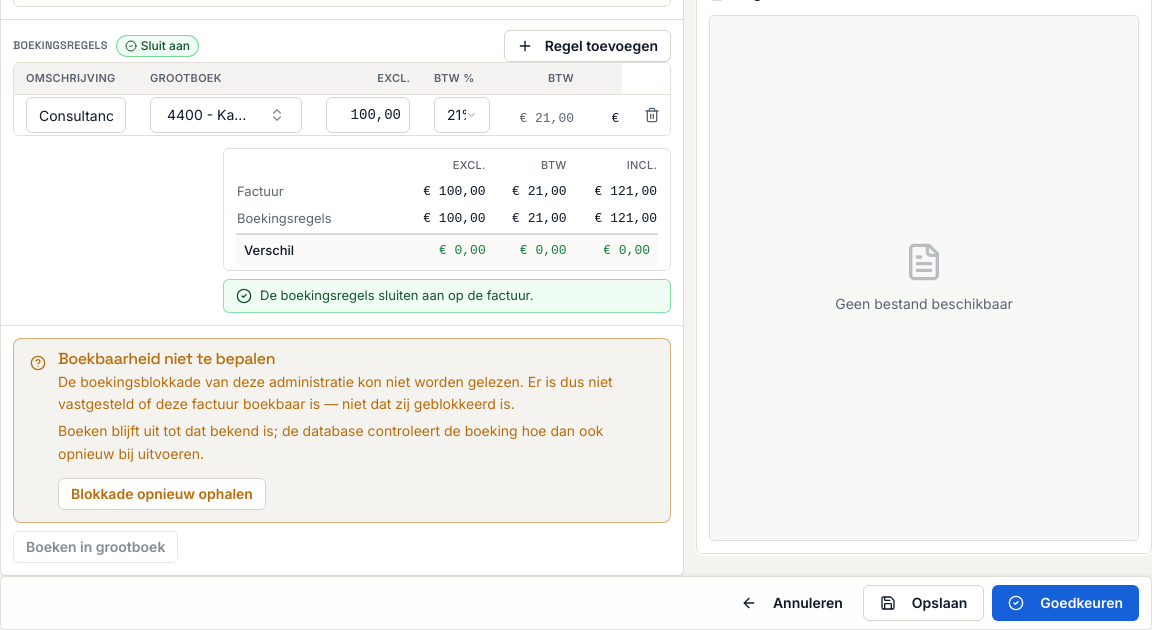
it: boeken — writer-uitgelijnde boekbaarheid › 12c. een onleesbare blokkade is 'onbekend', niet 'geblokkeerd': knop uit, neutrale tekst, zichtbare herstelweg
(page scrolled)
Expected: the element with test id "posting-readiness" shows "Boekbaarheid niet te bepalen", x1=58 y1=348 x2=275 y2=368
Expected: the element with test id "posting-readiness" shows "niet dat zij geblokkeerd is", x1=58 y1=372 x2=613 y2=412
Click the button with test id "posting-readiness-retry-lock" at (162, 494), box x1=58 y1=478 x2=266 y2=510
(page scrolled)
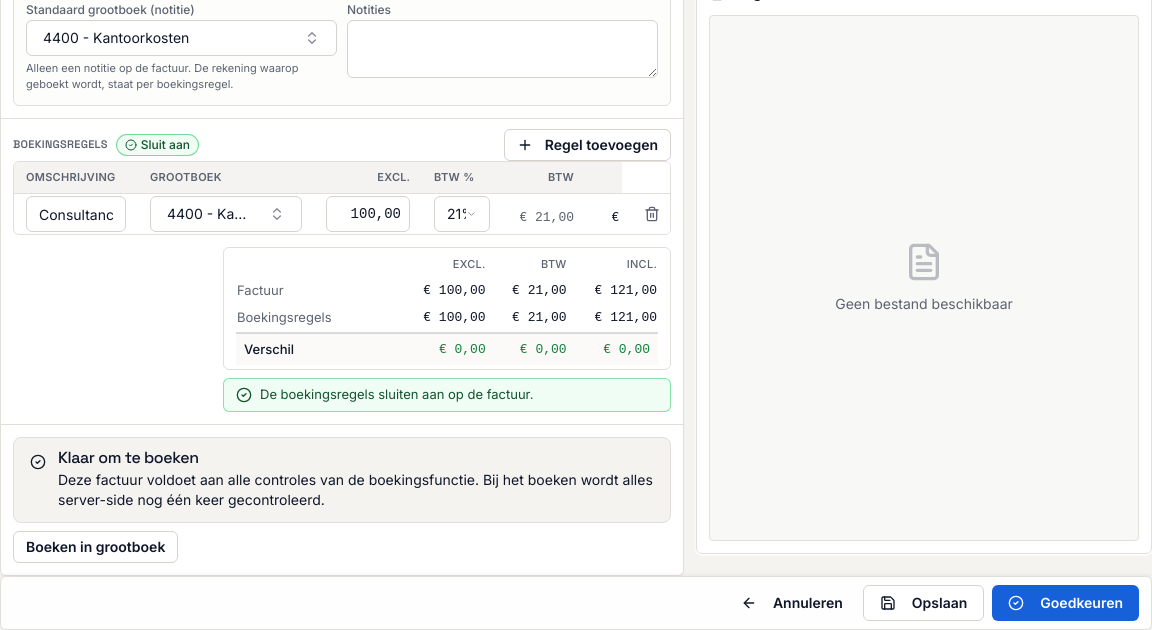
Expected: the button with test id "purchase-posting-button" is enabled, x1=13 y1=530 x2=178 y2=562
